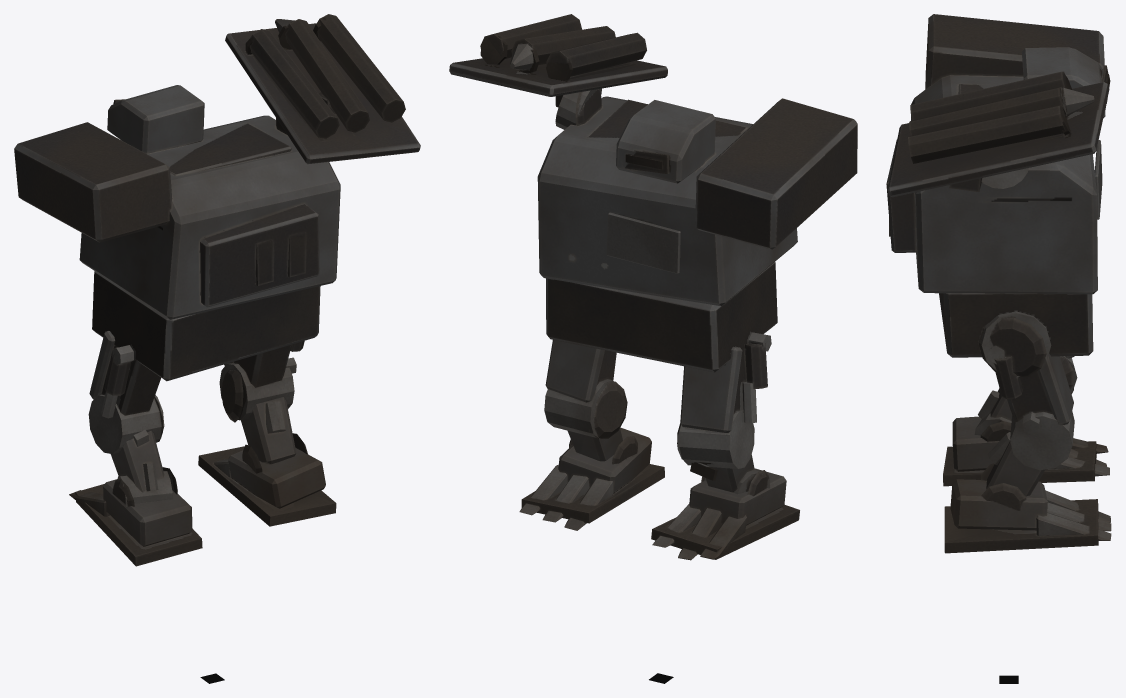
Rendered from chs_firebrand_wreck.fbx.
3 renders of one model, left to right at view 1: azimuth 30°, elevation 25°; view 2: azimuth 150°, elevation 25°; view 3: azimuth 270°, elevation 25°, orthographic. The views are drawn at different scales.
Parts seen in each view (by area): view 1: torso_bar, base_bar, footR_bar, thighL_bar, footL_bar, thighR_bar, shinL_bar, shinR_bar; view 2: torso_bar, base_bar, thighL_bar, footL_bar, footR_bar, thighR_bar, shinL_bar, shinR_bar; view 3: torso_bar, thighR_bar, footR_bar, base_bar, footL_bar, shinR_bar, shinL_bar, thighL_bar.
Part boxes in pixels (x1,y1,x2,y2): torso_bar: (14, 14, 420, 319); base_bar: (92, 271, 320, 381); footR_bar: (198, 446, 336, 526); thighL_bar: (88, 331, 164, 453); footL_bar: (69, 479, 202, 566); thighR_bar: (219, 341, 304, 422); shinL_bar: (110, 429, 177, 507); shinR_bar: (241, 397, 307, 473); torso_bar: (449, 14, 857, 306); base_bar: (546, 262, 777, 372); thighL_bar: (677, 332, 771, 468); footL_bar: (651, 468, 799, 560); footR_bar: (519, 427, 664, 530); thighR_bar: (544, 340, 627, 438); shinL_bar: (690, 455, 769, 496); shinR_bar: (567, 428, 637, 464); torso_bar: (886, 14, 1110, 294); thighR_bar: (978, 311, 1074, 470); footR_bar: (944, 479, 1111, 553); base_bar: (939, 293, 1093, 357); footL_bar: (943, 416, 1109, 486); shinR_bar: (981, 432, 1045, 510); shinL_bar: (974, 388, 1073, 441); thighL_bar: (1060, 356, 1077, 392).
Size of the model in its own units: 406 by 739 by 232.
2 materials, 2 textured.
